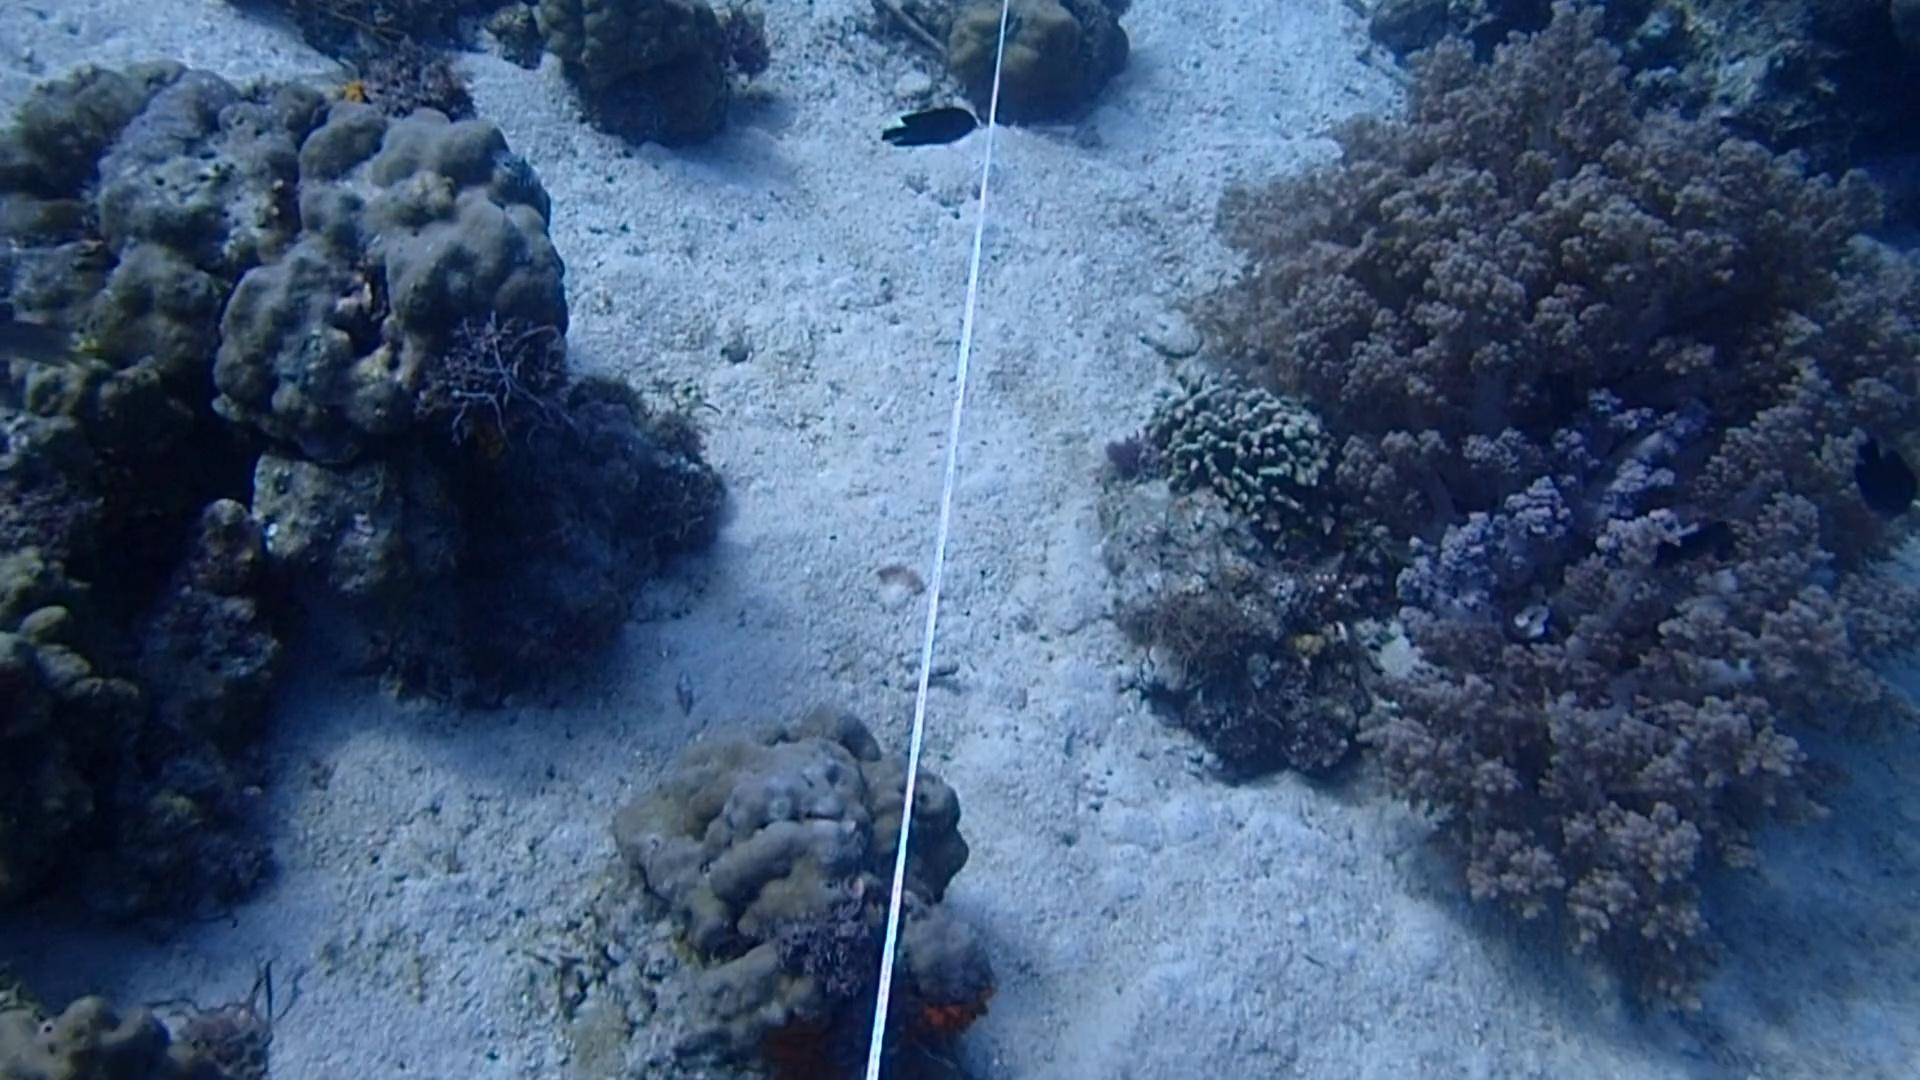Dark Fish: (1850, 427, 1920, 534), (877, 99, 982, 164), (1644, 517, 1754, 578)
